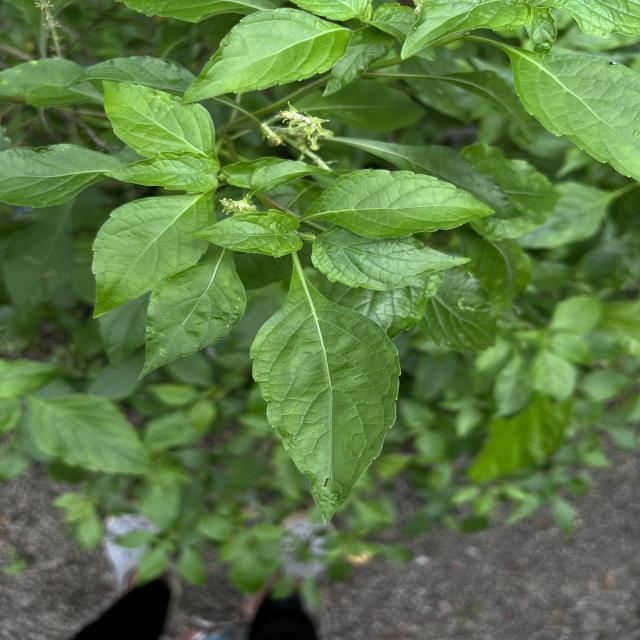Ocimum gratissimum: (245, 268, 406, 526), (499, 44, 640, 185), (177, 6, 358, 109), (88, 194, 219, 320), (302, 164, 499, 243), (135, 250, 249, 384), (100, 77, 222, 161), (398, 0, 536, 63), (0, 142, 119, 210), (186, 206, 306, 260), (98, 144, 222, 196)
